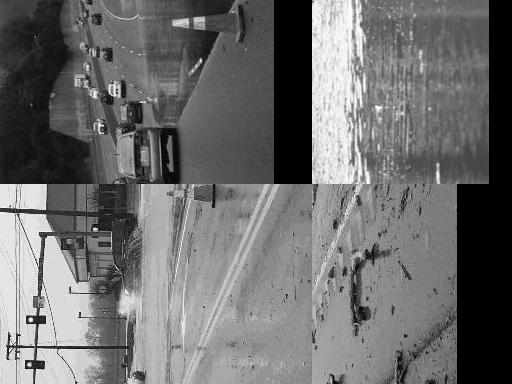road_waterlogging: (312, 0, 487, 184), (139, 184, 177, 384), (140, 0, 210, 106), (117, 271, 138, 384)
